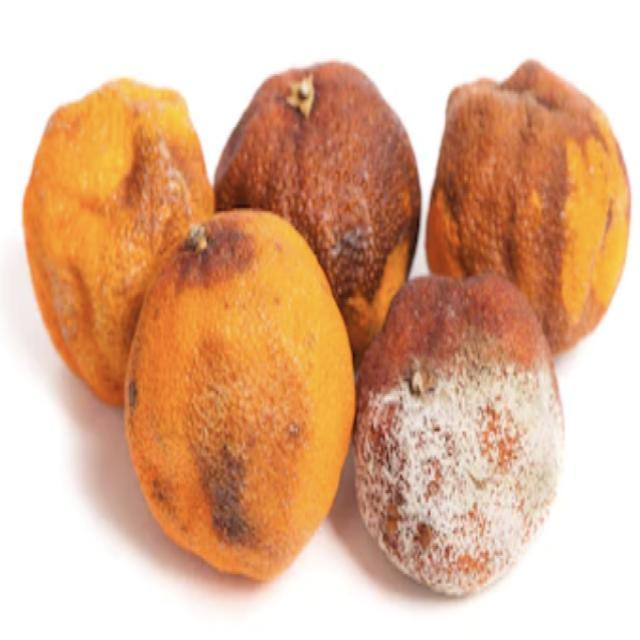sangat-busuk: (124, 211, 354, 579), (353, 276, 563, 594), (23, 78, 212, 405), (216, 62, 420, 356), (426, 61, 629, 355)
